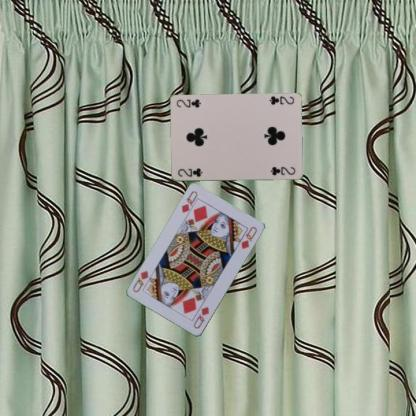2c: (175, 166, 203, 178), (267, 94, 295, 106)
Qd: (179, 188, 200, 218), (191, 304, 210, 330)
